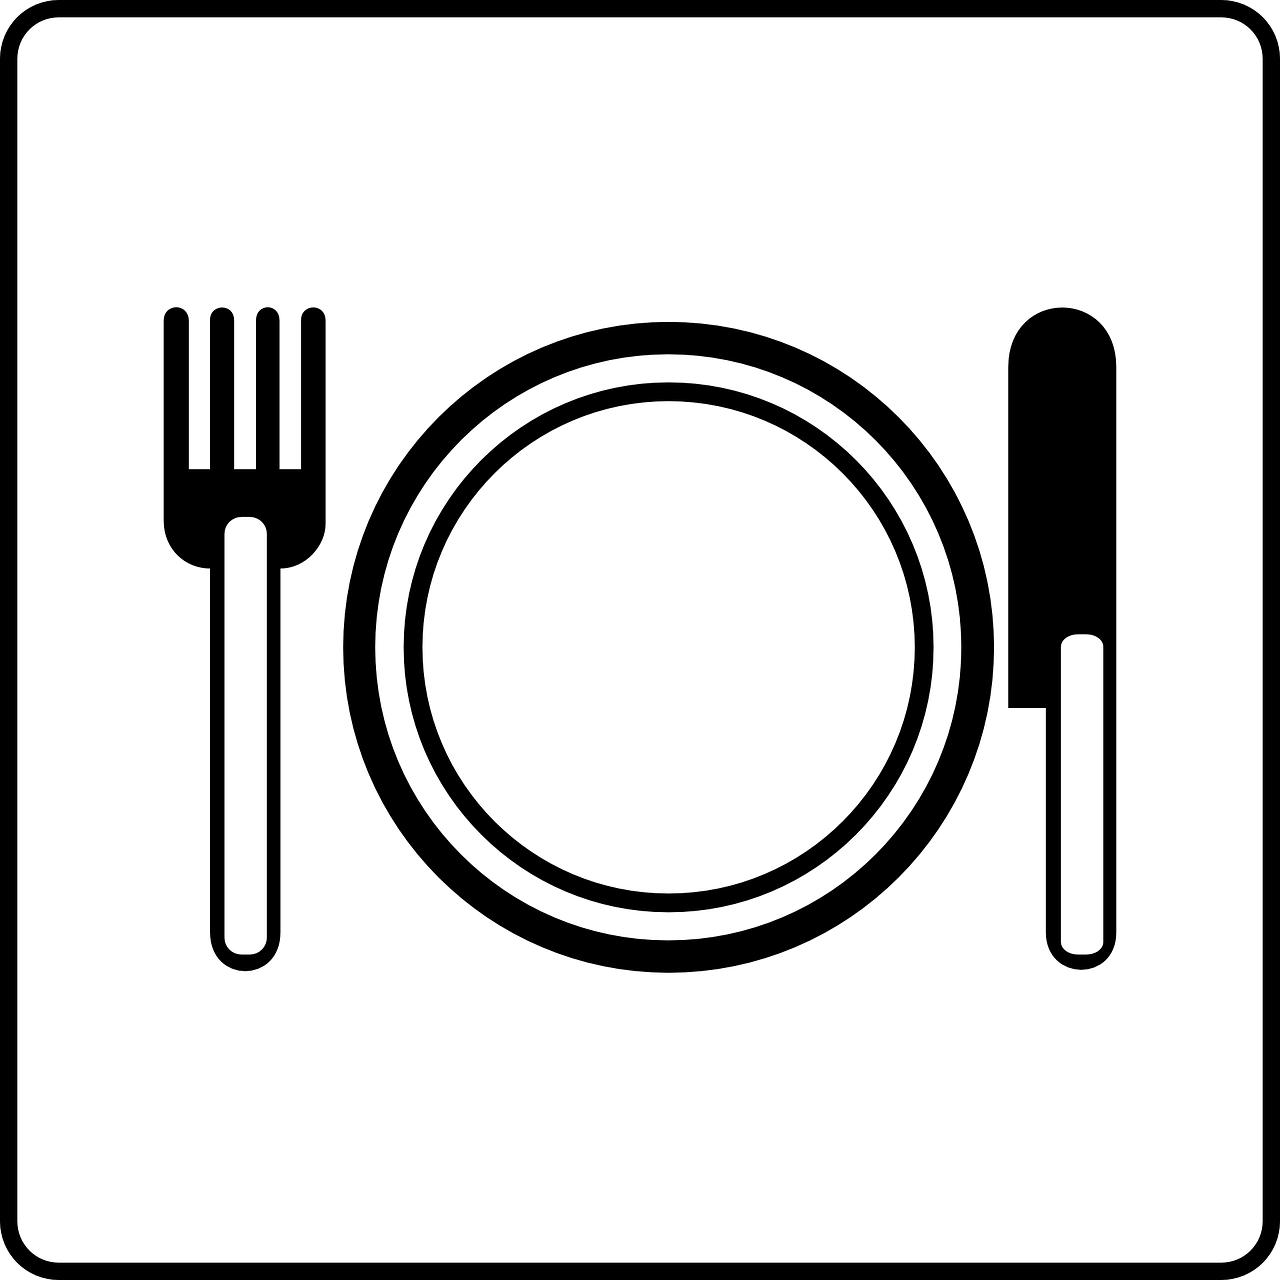knife: (990, 295, 1131, 972)
